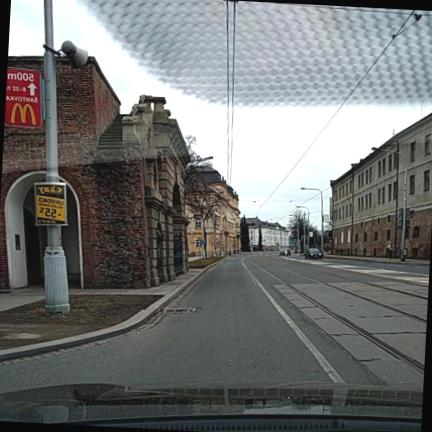Road: (0, 253, 428, 392)
